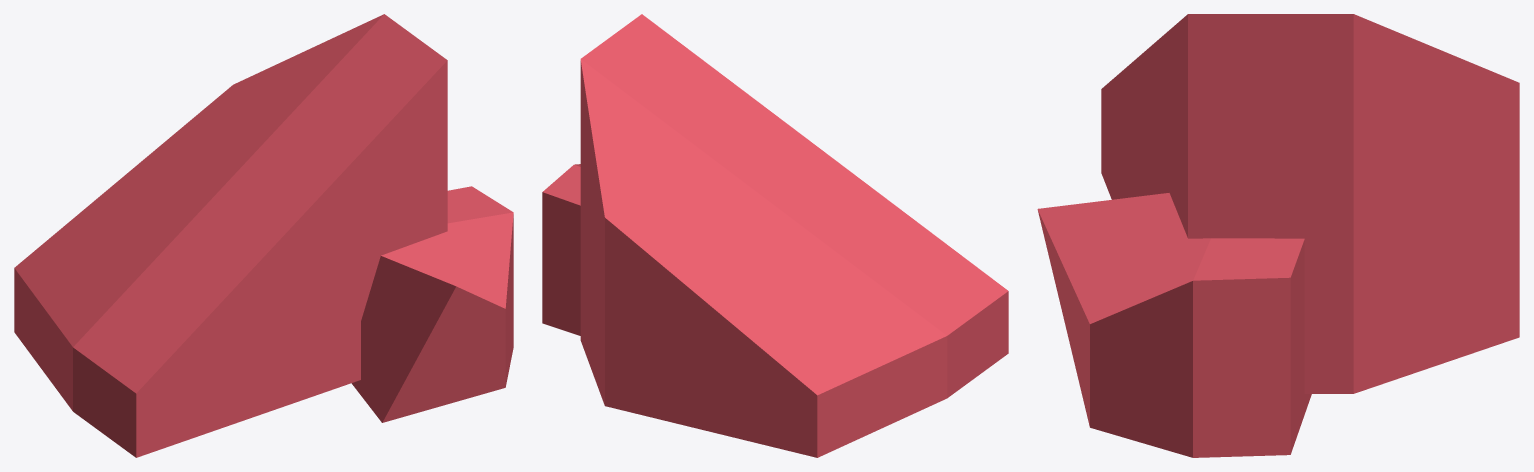
The model's file is RockType5 04.fbx.
The picture shows the model from 3 angles, left to right: view 1: azimuth 30°, elevation 25°; view 2: azimuth 150°, elevation 25°; view 3: azimuth 270°, elevation 25°; orthographic projection. The views are drawn at different scales.
Parts seen in each view (by area): view 1: Rock Type5 04 mesh; view 2: Rock Type5 04 mesh; view 3: Rock Type5 04 mesh.
Part boxes in pixels (x1,y1,x2,y2): Rock Type5 04 mesh: (14, 14, 513, 457); Rock Type5 04 mesh: (542, 14, 1008, 457); Rock Type5 04 mesh: (1037, 14, 1519, 457).
Size of the model in its own units: 118 by 83.51 by 91.1.
